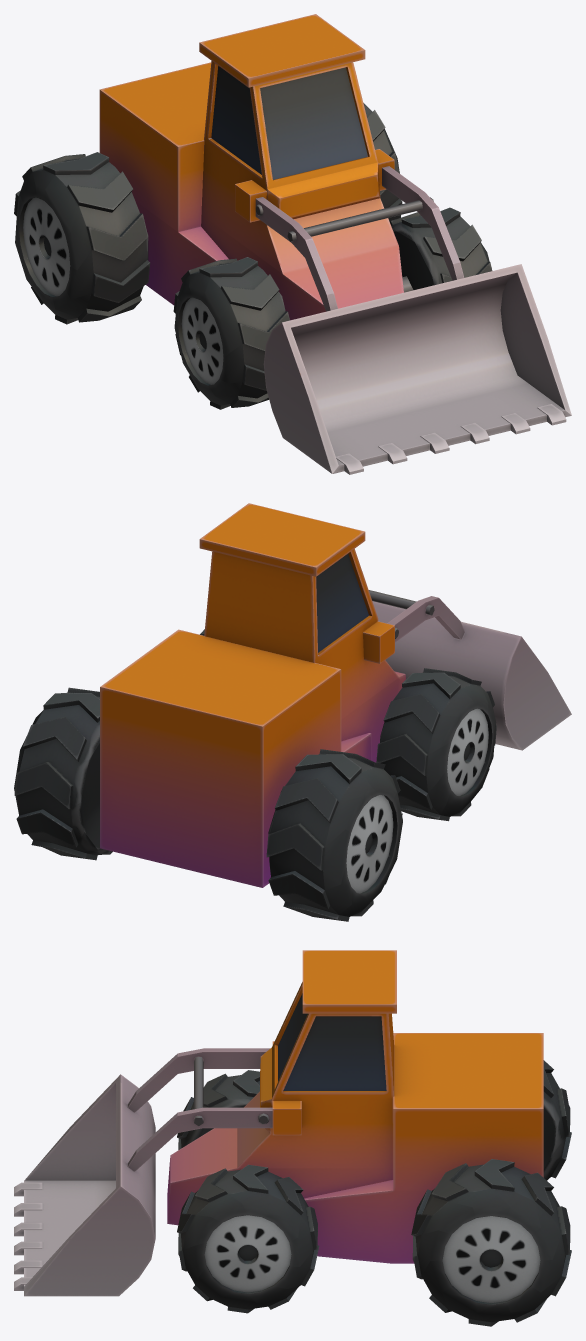
File: Tractor_optimized.fbx
3 views of the same model, one above another, from view 1: azimuth 30°, elevation 25°; view 2: azimuth 150°, elevation 25°; view 3: azimuth 270°, elevation 25° (orthographic). The views are drawn at different scales.
Parts seen in each view (by area): view 1: Tractor4_optimized2; view 2: Tractor4_optimized2; view 3: Tractor4_optimized2.
Part boxes in pixels (box(x1,y1,x2,y2)): Tractor4_optimized2: box(14, 14, 571, 474); Tractor4_optimized2: box(14, 503, 571, 921); Tractor4_optimized2: box(14, 950, 571, 1326).
Size of the model in its own units: 470 by 400 by 724.
1 material, 1 textured.
